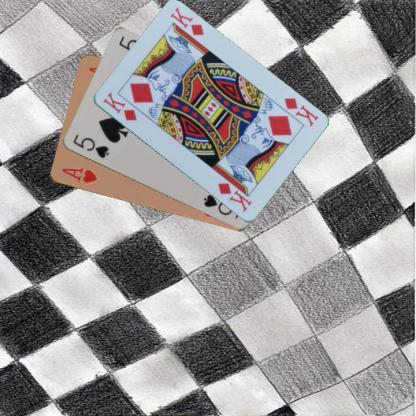5s: (70, 132, 110, 160)
Ah: (59, 166, 100, 184)
Kd: (282, 94, 320, 127), (100, 90, 138, 122)
